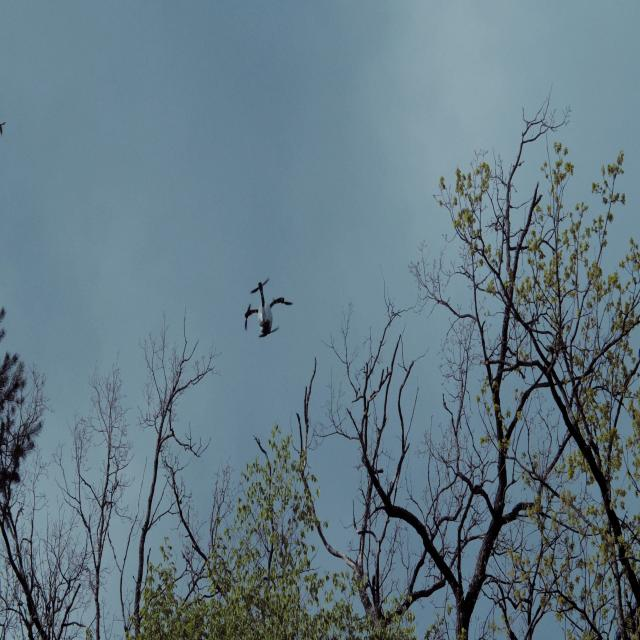Drone: (239, 266, 293, 346)
